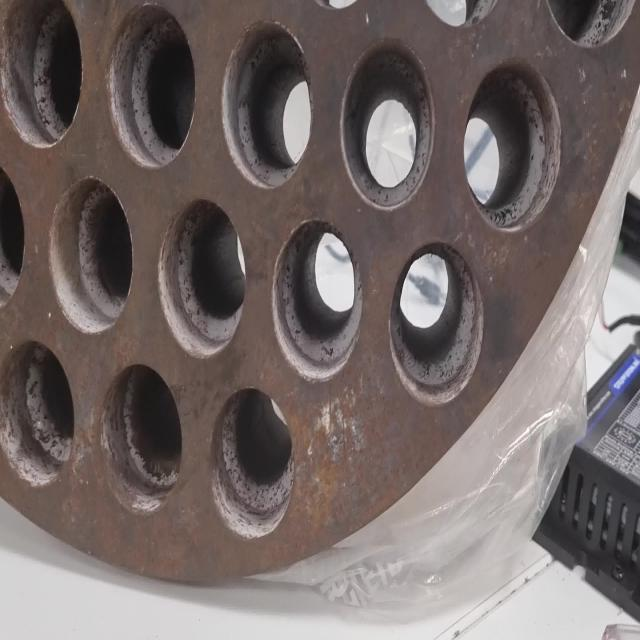Hole: (464, 60, 562, 232), (340, 38, 436, 211), (388, 239, 484, 407), (222, 18, 313, 190), (106, 3, 196, 169), (272, 218, 362, 383), (158, 198, 246, 359), (48, 178, 133, 334), (210, 386, 294, 541), (100, 362, 182, 514), (1, 1, 83, 149), (1, 339, 75, 488), (0, 159, 26, 311)
